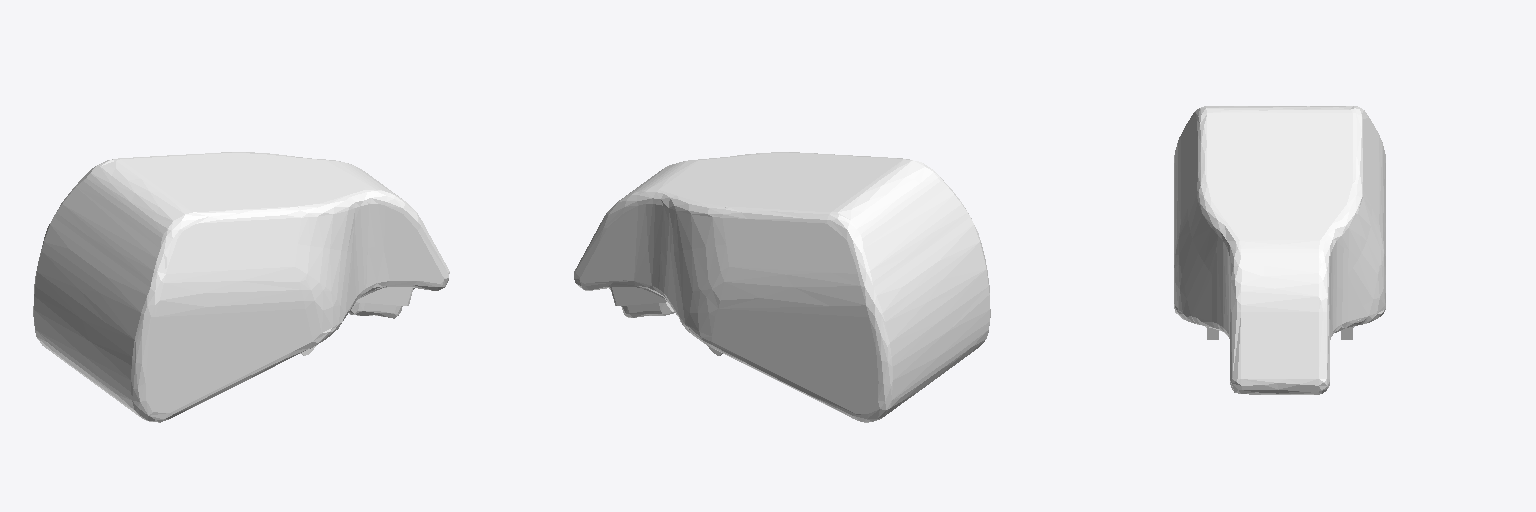
File: l_finger.obj
3 views of the same model, side by side, from view 1: azimuth 30°, elevation 25°; view 2: azimuth 150°, elevation 25°; view 3: azimuth 270°, elevation 25° (orthographic).
Bounding box in the file's own units: 1.05 × 0.5475 × 0.555.